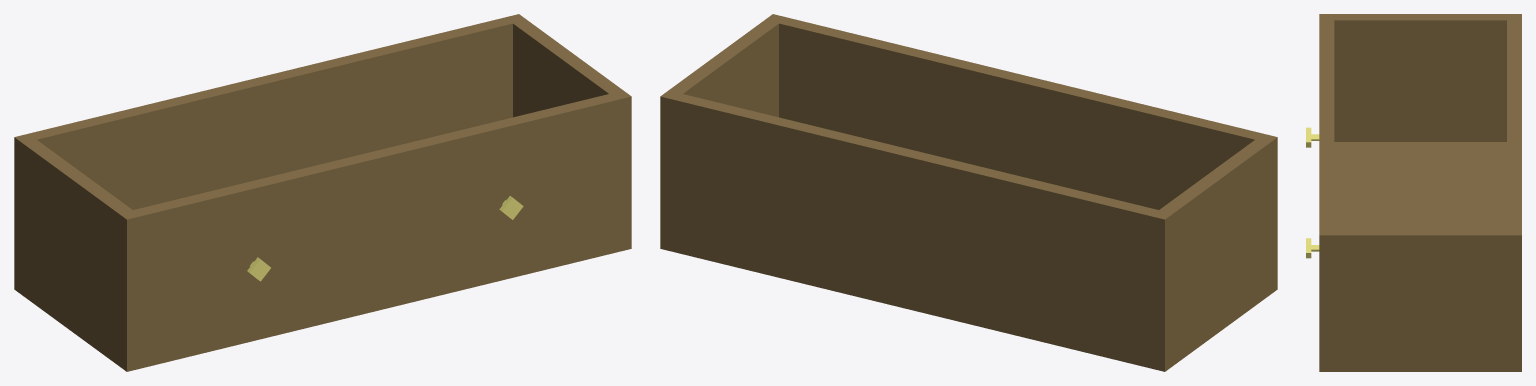
Rendered from Itr_Wardrobe1_Drawer_01.FBX.
The picture shows the model from 3 angles, left to right: view 1: azimuth 30°, elevation 25°; view 2: azimuth 150°, elevation 25°; view 3: azimuth 270°, elevation 25°; orthographic projection. The views are drawn at different scales.
Parts seen in each view (by area): view 1: Itr_Wardrobe1_Drawer_01; view 2: Itr_Wardrobe1_Drawer_01; view 3: Itr_Wardrobe1_Drawer_01.
Part boxes in pixels (x1,y1,x2,y2): Itr_Wardrobe1_Drawer_01: [14, 14, 631, 371]; Itr_Wardrobe1_Drawer_01: [660, 14, 1277, 371]; Itr_Wardrobe1_Drawer_01: [1306, 14, 1521, 371].
Bounding box in the file's own units: 40.74 × 11.75 × 16.8.
